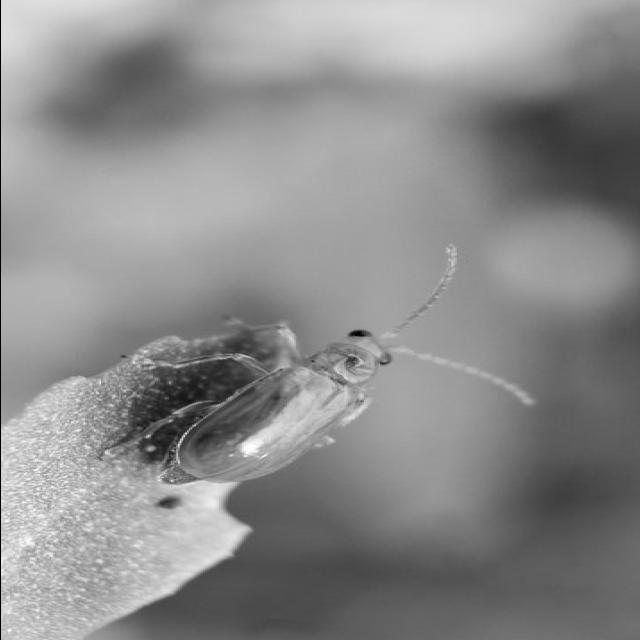Pumpkin Beetle: (91, 244, 538, 489)
